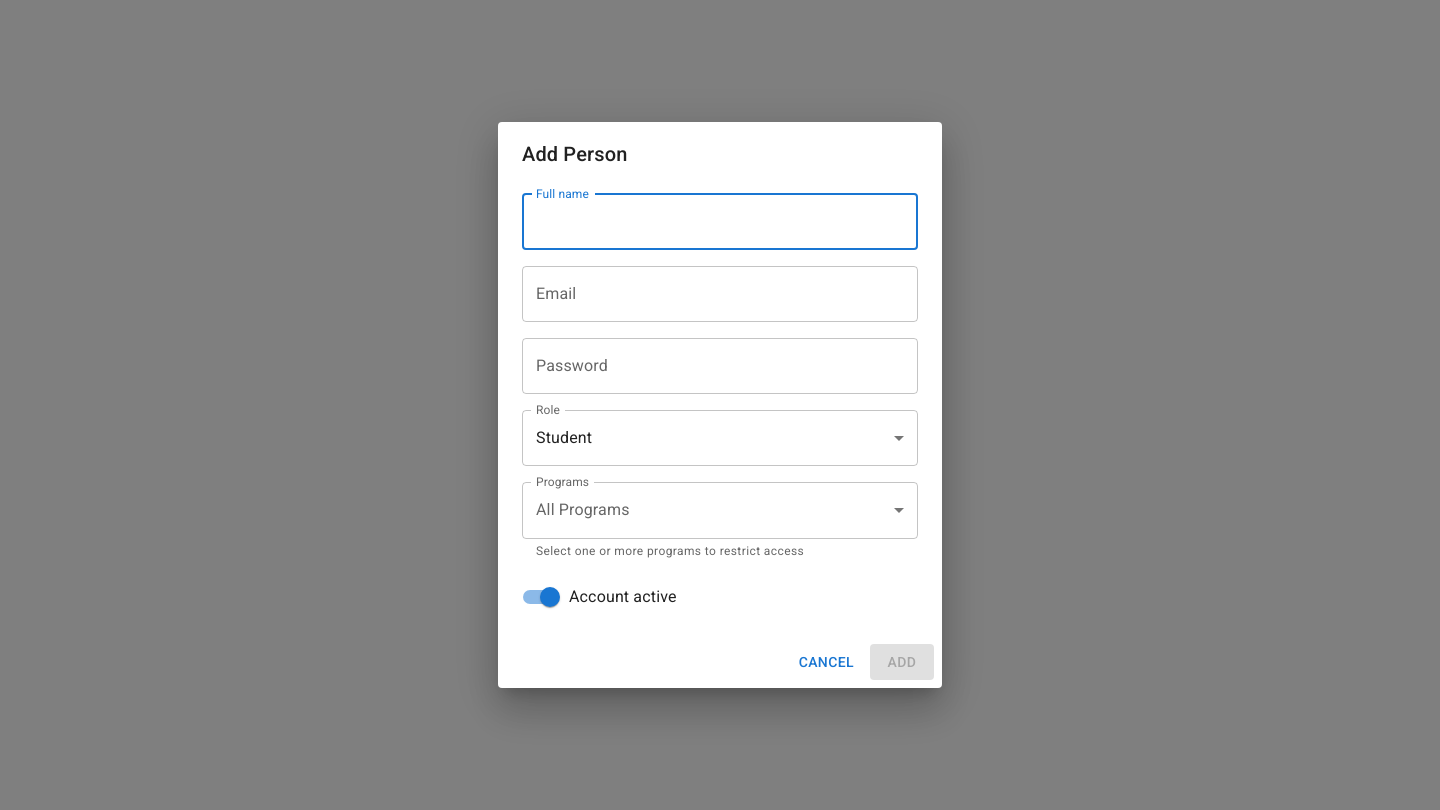
Test case: AddEditPersonModal › shows non-restrictive helper text when role is admin
This screenshot has width=1440, height=810.
Change role to admin via MUI Select
Click the dropdown labelled "Student": click(564, 438) 536,428 -> 592,447
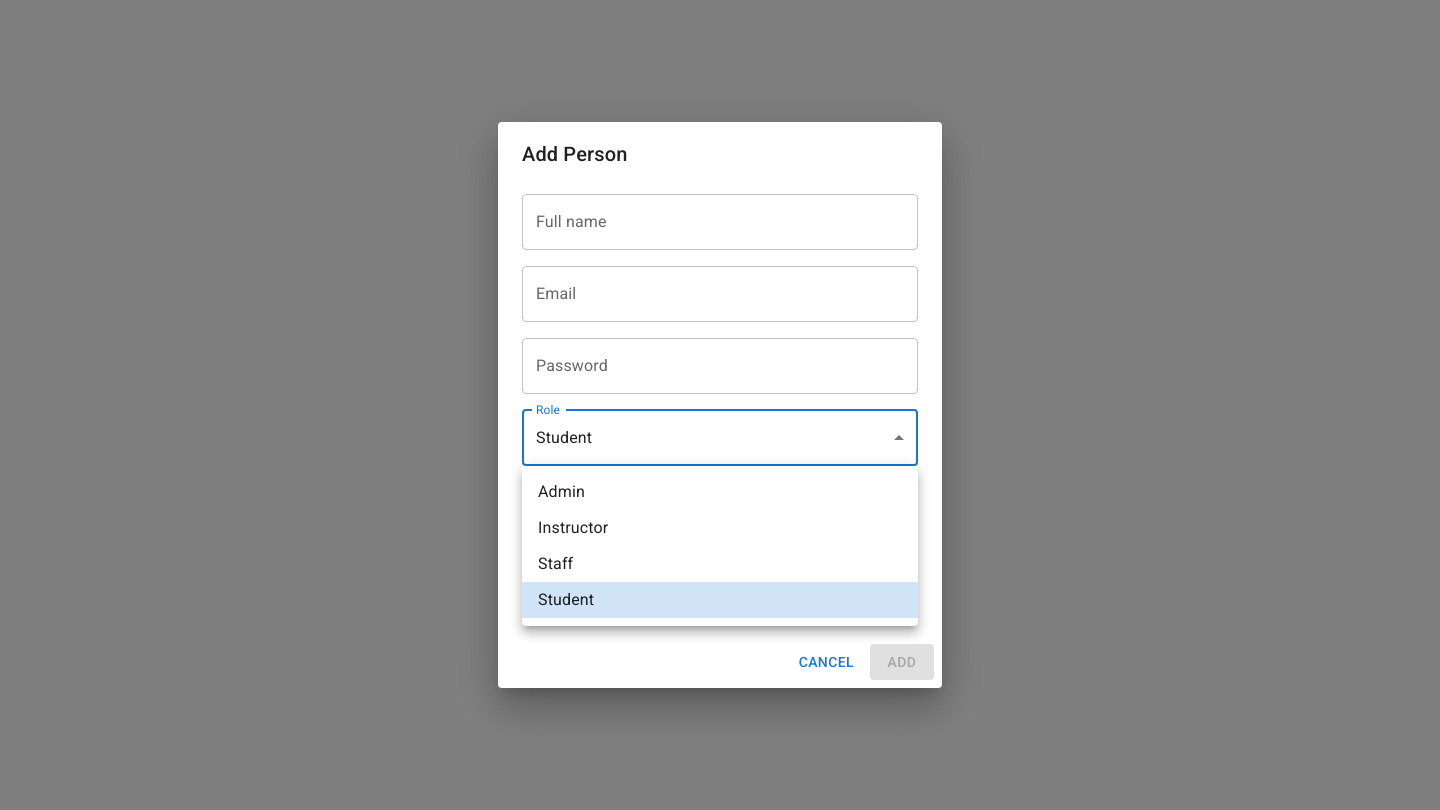
Click the option "Admin": click(562, 492) 538,482 -> 585,501
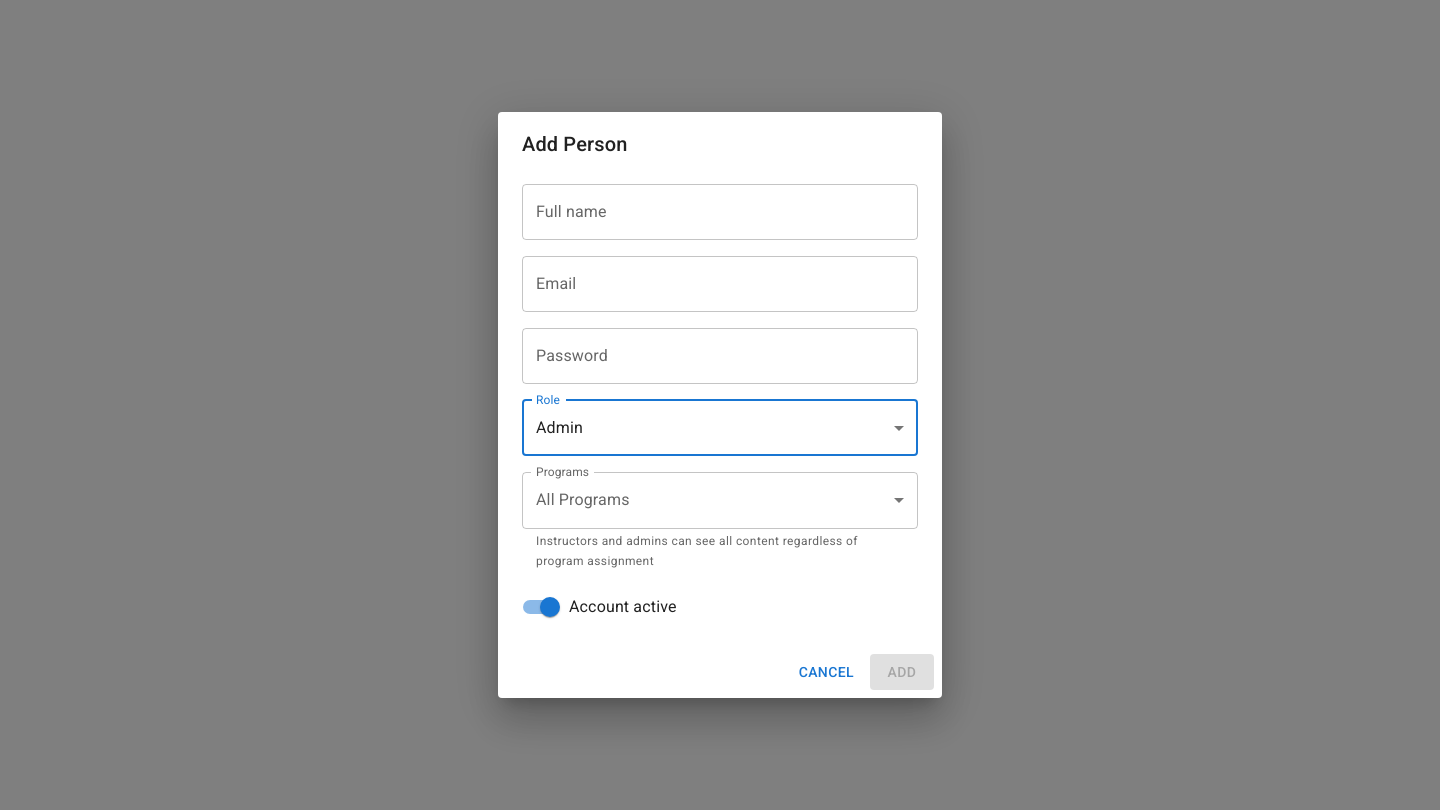
Result: the text "Instructors and admins can see all content regardless of program assignment" is shown at 536,532 -> 904,572
